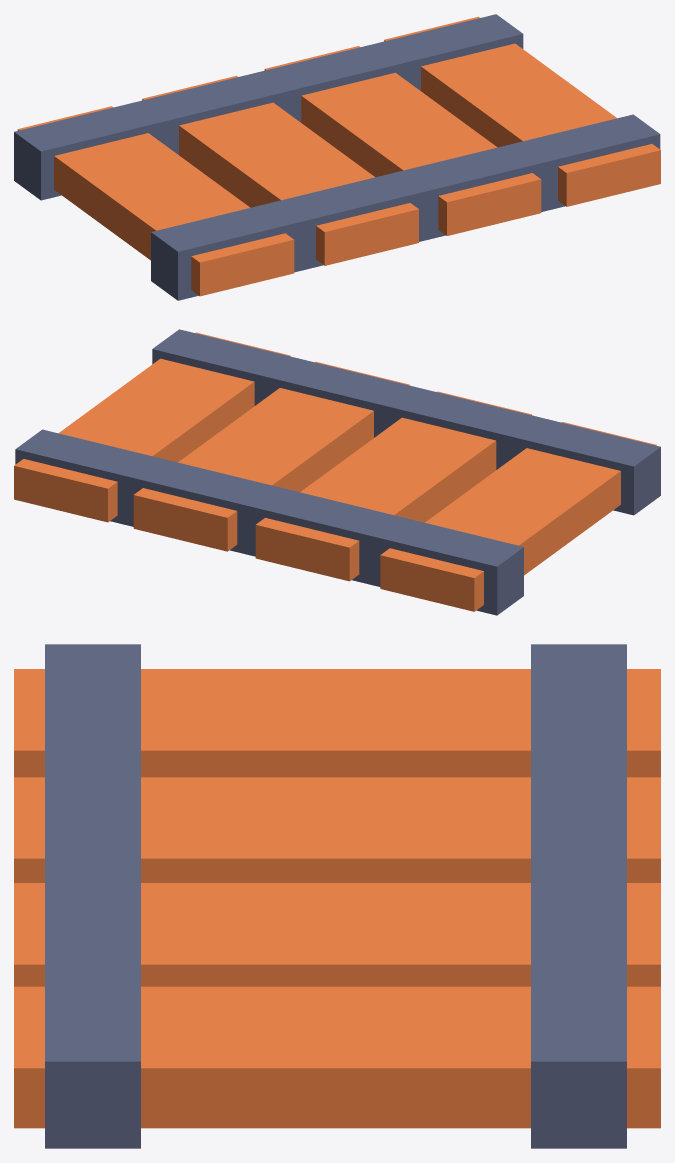
Rendered from Rail_A.fbx.
The picture shows the model from 3 angles, top to bottom: view 1: azimuth 30°, elevation 25°; view 2: azimuth 150°, elevation 25°; view 3: azimuth 270°, elevation 25°; orthographic projection. The views are drawn at different scales.
Visible parts, largest first — view 1: Rail_A; view 2: Rail_A; view 3: Rail_A.
Part boxes in pixels (box(x1,y1,x2,y2)): Rail_A: box(14, 14, 660, 300); Rail_A: box(14, 329, 660, 615); Rail_A: box(14, 644, 660, 1148).
Bounding box in the file's own units: 218 × 21.11 × 143.
